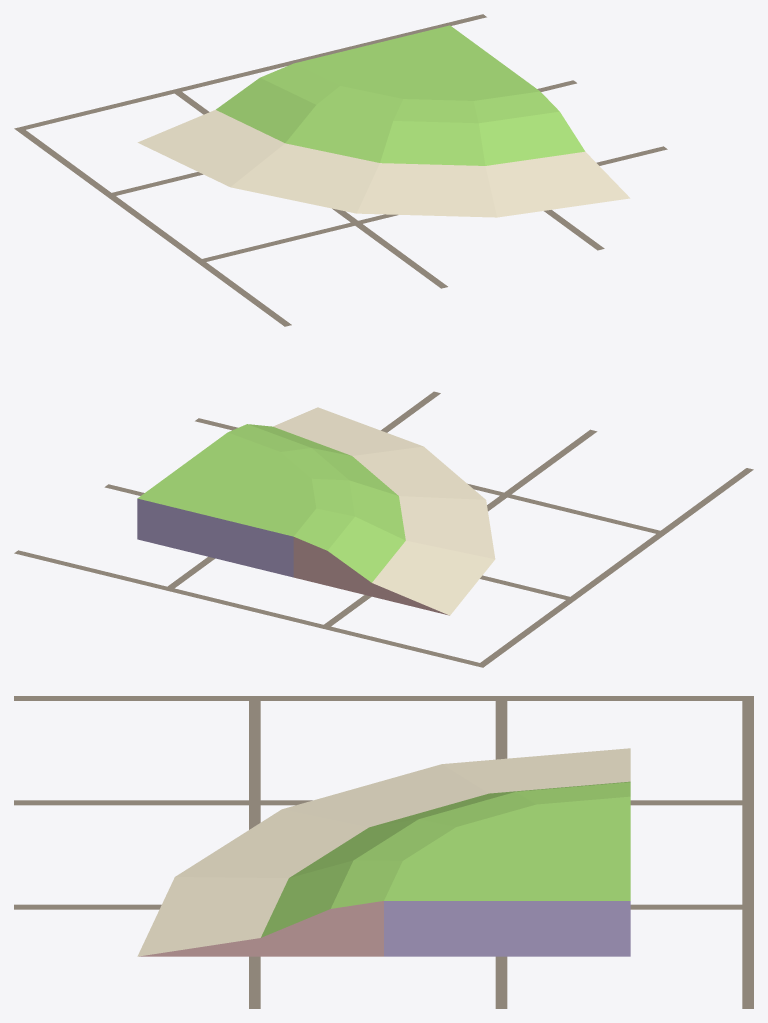
File: Path_Terrain_Basic_Curve_Outer_2x2.glb
3 renders of one model, top to bottom at view 1: azimuth 30°, elevation 25°; view 2: azimuth 150°, elevation 25°; view 3: azimuth 270°, elevation 25°, orthographic. The views are drawn at different scales.
Parts seen in each view (by area): view 1: Path_Terrain_Basic_Curve_Outer_2x2, Floor; view 2: Path_Terrain_Basic_Curve_Outer_2x2, Floor; view 3: Path_Terrain_Basic_Curve_Outer_2x2, Floor.
Boxes of the visible parts, x1,y1,x2,y2 form: Path_Terrain_Basic_Curve_Outer_2x2: (137,25,630,217); Floor: (14,14,667,326); Path_Terrain_Basic_Curve_Outer_2x2: (137,407,495,615); Floor: (14,391,753,667); Path_Terrain_Basic_Curve_Outer_2x2: (137,748,630,956); Floor: (14,696,753,1008).
Size of the model in its own units: 300 by 25 by 300.
Materials: 6 (1 with a texture image).
